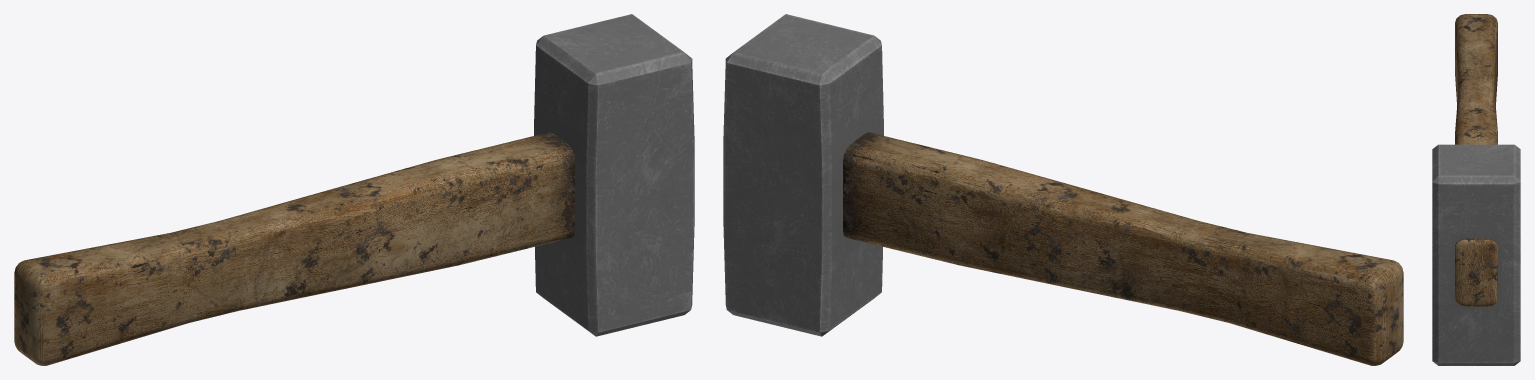
The model's file is Hammer01.FBX.
3 views of the same model, side by side, from view 1: azimuth 30°, elevation 25°; view 2: azimuth 150°, elevation 25°; view 3: azimuth 270°, elevation 25° (orthographic). The views are drawn at different scales.
Visible parts, largest first — view 1: Hammer01; view 2: Hammer01; view 3: Hammer01.
Boxes of the visible parts, x1=… form: Hammer01: x1=14, y1=14, x2=694, y2=365; Hammer01: x1=723, y1=14, x2=1403, y2=365; Hammer01: x1=1432, y1=14, x2=1520, y2=365.
Size of the model in its own units: 295 by 114 by 47.96.
